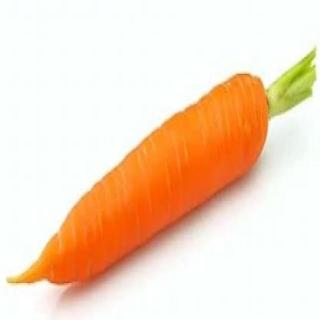carrot: (18, 71, 268, 293)
